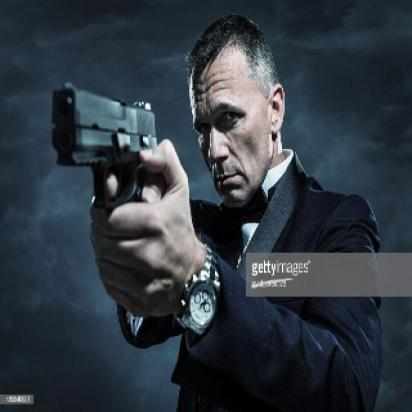Gun: (44, 81, 159, 210)
